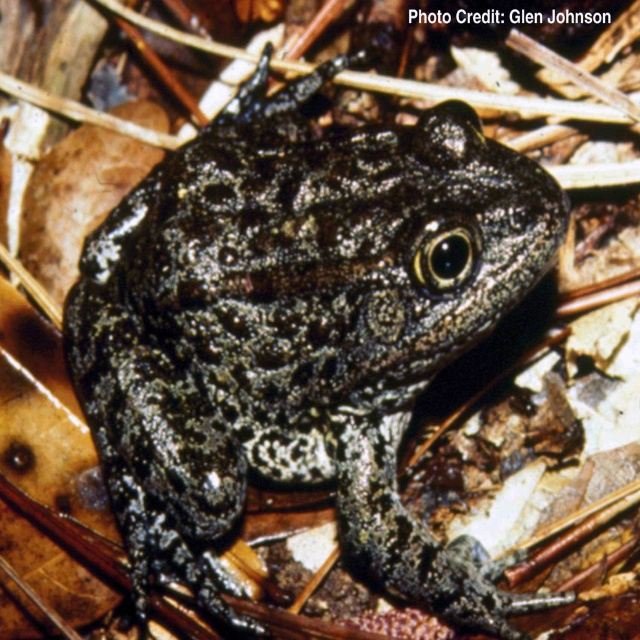Frog: (59, 39, 571, 639)
